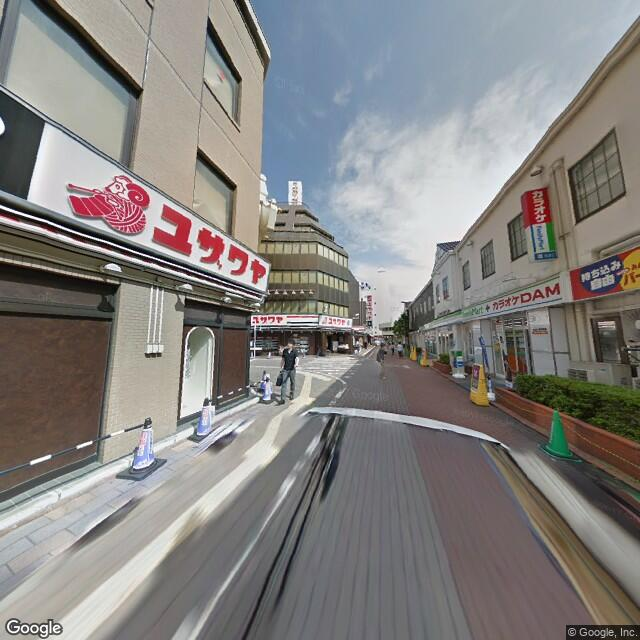family_mart: (533, 221, 557, 259)
